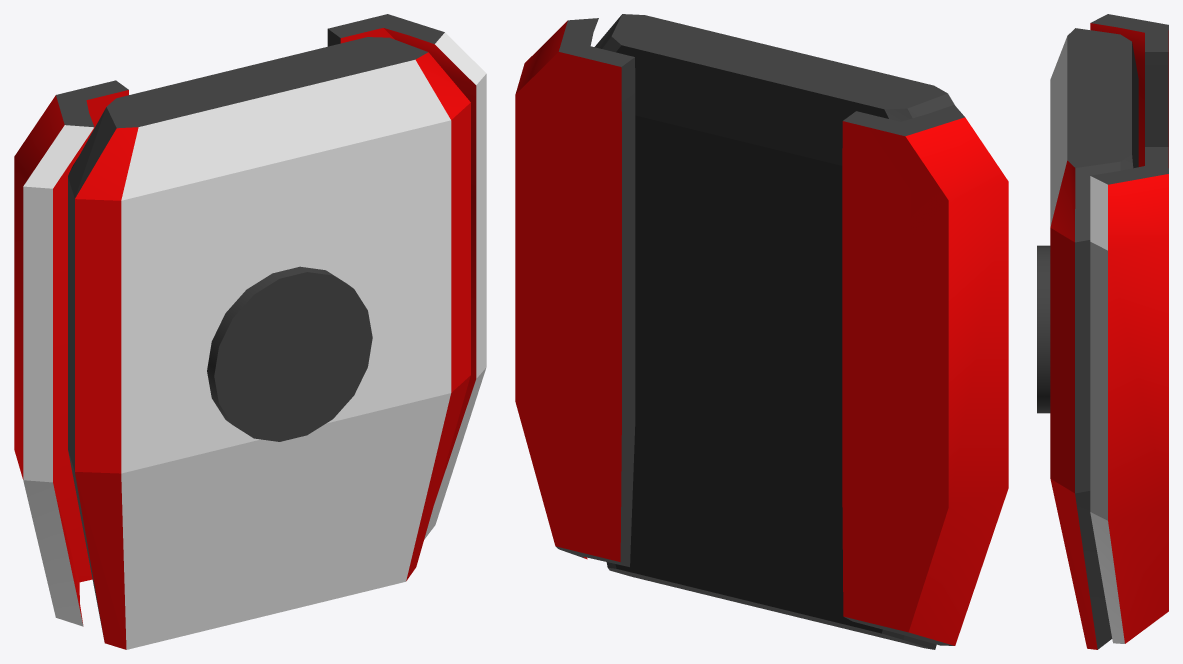
File: heavyBase.obj
3 views of the same model, side by side, from view 1: azimuth 30°, elevation 25°; view 2: azimuth 150°, elevation 25°; view 3: azimuth 270°, elevation 25° (orthographic). The views are drawn at different scales.
Parts seen in each view (by area): view 1: Box001, Box002, Cylinder026; view 2: Box002, Box001; view 3: Box002, Box001, Cylinder026.
Part boxes in pixels (x1,y1,x2,y2): Box001: [68, 37, 470, 649]; Box002: [14, 14, 486, 626]; Cylinder026: [207, 266, 372, 441]; Box002: [515, 18, 1008, 645]; Box001: [594, 14, 954, 649]; Box002: [1090, 14, 1168, 643]; Box001: [1050, 28, 1138, 649]; Cylinder026: [1037, 245, 1050, 413].
Size of the model in its own units: 1.75 by 1.92 by 0.4701.
